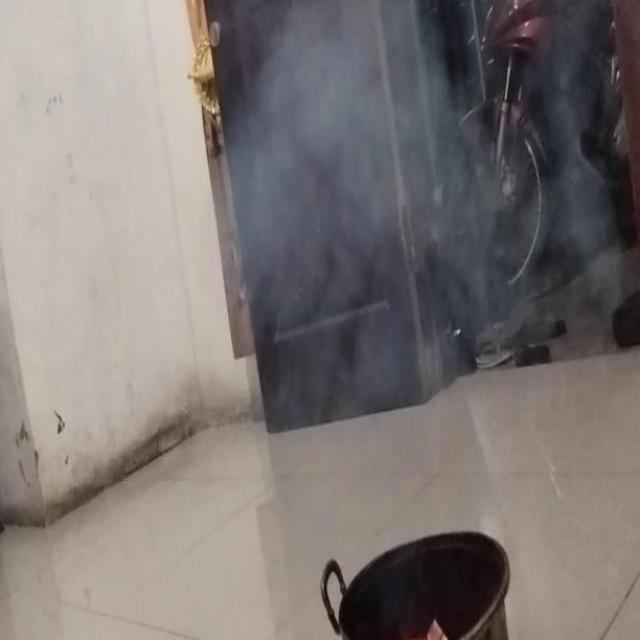fire: (220, 0, 602, 388)
